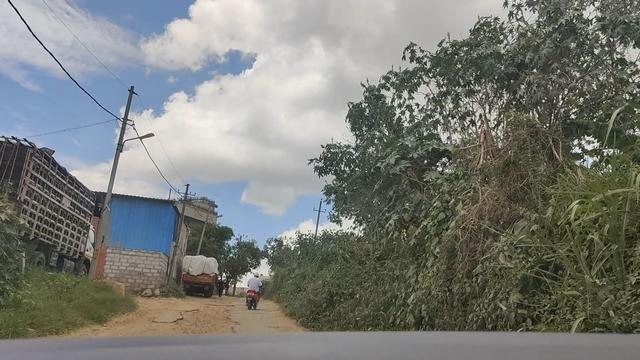HMV: (179, 251, 219, 301)
RoadDamages: (150, 302, 255, 335)
